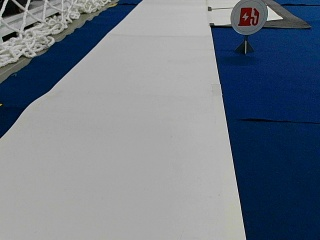battery: (229, 0, 268, 35)
